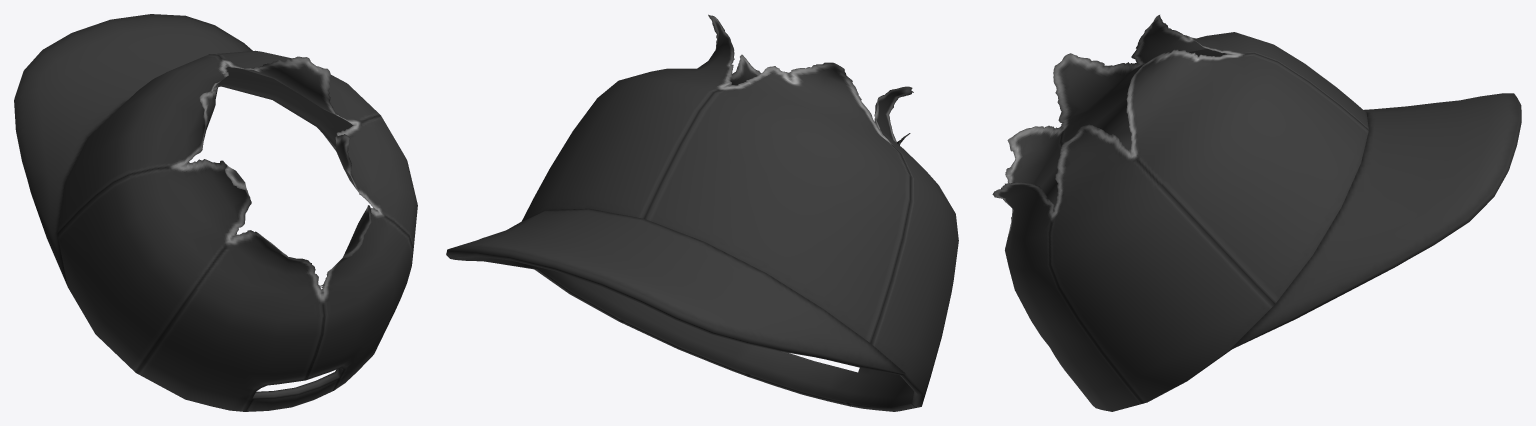
The model's file is pm0454_00_Rig.fbx.
The picture shows the model from 3 angles, left to right: view 1: azimuth 30°, elevation 25°; view 2: azimuth 150°, elevation 25°; view 3: azimuth 270°, elevation 25°; orthographic projection. The views are drawn at different scales.
Parts seen in each view (by area): view 1: doodad_fashionweek_2022_cap; view 2: doodad_fashionweek_2022_cap; view 3: doodad_fashionweek_2022_cap.
Part boxes in pixels (<box>): doodad_fashionweek_2022_cap: <box>14,14,417,411</box>; doodad_fashionweek_2022_cap: <box>446,14,958,411</box>; doodad_fashionweek_2022_cap: <box>992,15,1521,411</box>.
Bounding box in the file's own units: 0.2505 × 0.2444 × 0.3319.
